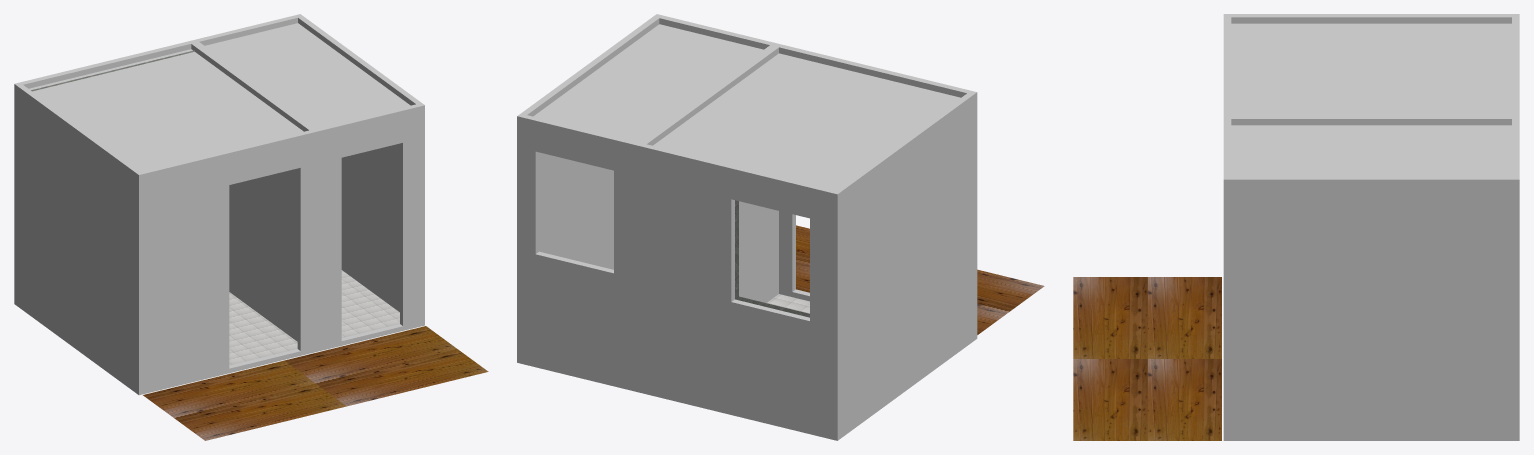
File: updated_reno.glb
The picture shows the model from 3 angles, left to right: view 1: azimuth 30°, elevation 25°; view 2: azimuth 150°, elevation 25°; view 3: azimuth 270°, elevation 25°; orthographic projection. The views are drawn at different scales.
Visible parts, largest first — view 1: Plane, Plane.002, Plane.004, Plane.001, Plane.003; view 2: Plane, Plane.002, Plane.001, Plane.004, Plane.005; view 3: Plane, Plane.002, Plane.004, Plane.001.
Boxes of the visible parts, x1=… form: Plane: x1=14, y1=14, x2=424, y2=395; Plane.002: x1=29, y1=23, x2=410, y2=171; Plane.004: x1=143, y1=326, x2=488, y2=440; Plane.001: x1=189, y1=40, x2=318, y2=341; Plane.003: x1=229, y1=270, x2=399, y2=365; Plane: x1=517, y1=14, x2=977, y2=440; Plane.002: x1=533, y1=24, x2=960, y2=189; Plane.001: x1=637, y1=44, x2=780, y2=302; Plane.004: x1=796, y1=225, x2=1044, y2=334; Plane.005: x1=735, y1=200, x2=809, y2=317; Plane: x1=1223, y1=14, x2=1519, y2=440; Plane.002: x1=1231, y1=23, x2=1511, y2=176; Plane.004: x1=1073, y1=277, x2=1221, y2=440; Plane.001: x1=1227, y1=114, x2=1513, y2=125.
Size of the model in its own units: 3.27 by 2.44 by 3.71.
3 materials, 3 textured.
